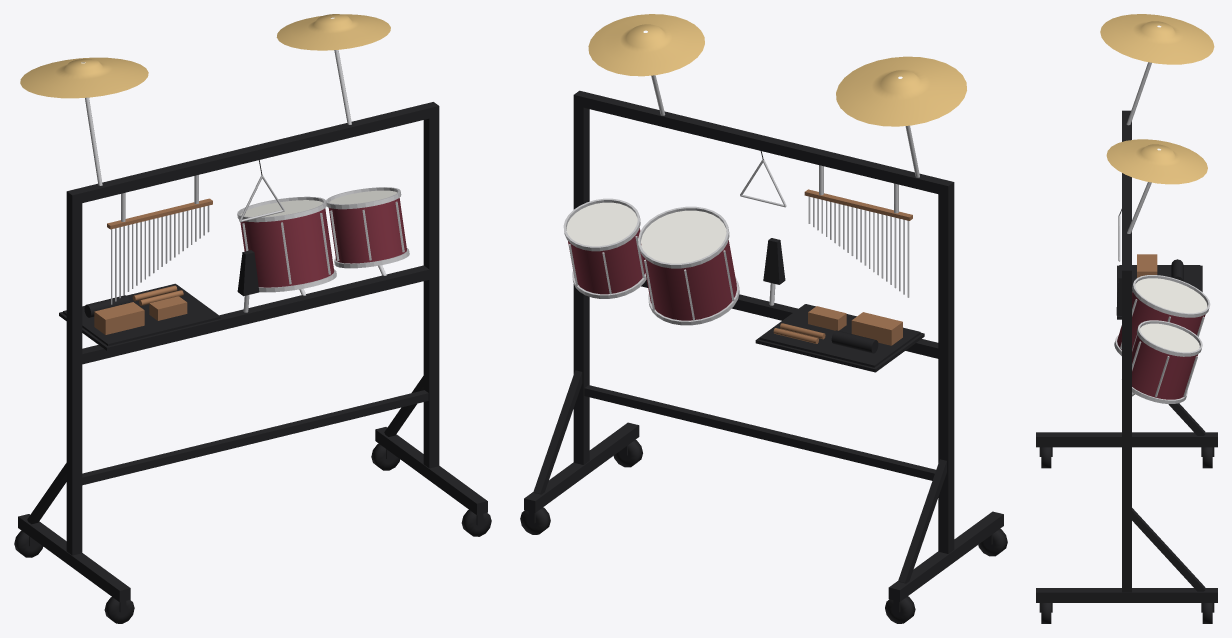
The model's file is aux-rack-mixed.glb.
3 views of the same model, side by side, from view 1: azimuth 30°, elevation 25°; view 2: azimuth 150°, elevation 25°; view 3: azimuth 270°, elevation 25° (orthographic). The views are drawn at different scales.
Parts seen in each view (by area): view 1: frame, shell, metal, cymbal, wood, head; view 2: frame, cymbal, metal, shell, head, wood; view 3: frame, cymbal, shell, metal, head, wood.
Part boxes in pixels (x1,y1,x2,y2): frame: [14, 102, 491, 623]; shell: [240, 198, 406, 287]; metal: [85, 50, 409, 312]; cymbal: [20, 14, 390, 98]; wood: [94, 198, 212, 334]; head: [240, 190, 397, 217]; frame: [520, 90, 1007, 623]; cymbal: [588, 14, 966, 126]; metal: [563, 75, 919, 325]; shell: [568, 228, 736, 320]; head: [566, 202, 726, 263]; wood: [773, 189, 912, 345]; frame: [1036, 110, 1217, 623]; cymbal: [1100, 14, 1214, 184]; shell: [1117, 292, 1205, 399]; metal: [1114, 62, 1210, 403]; head: [1135, 278, 1207, 352]; wood: [1137, 254, 1157, 277].
Size of the model in its own units: 1.63 by 1.98 by 0.72.
